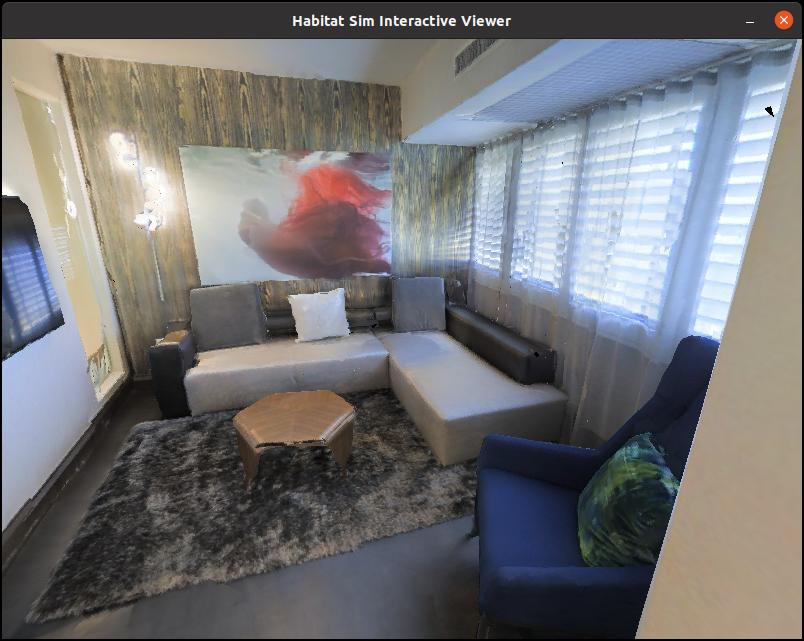chair: (453, 306, 743, 635)
sofa: (140, 271, 583, 477)
table: (207, 381, 391, 507)
